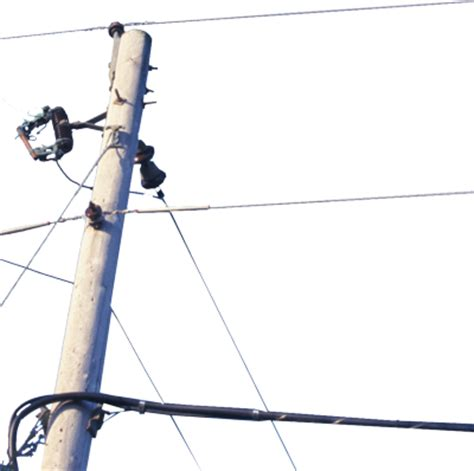pole: (18, 12, 187, 471)
